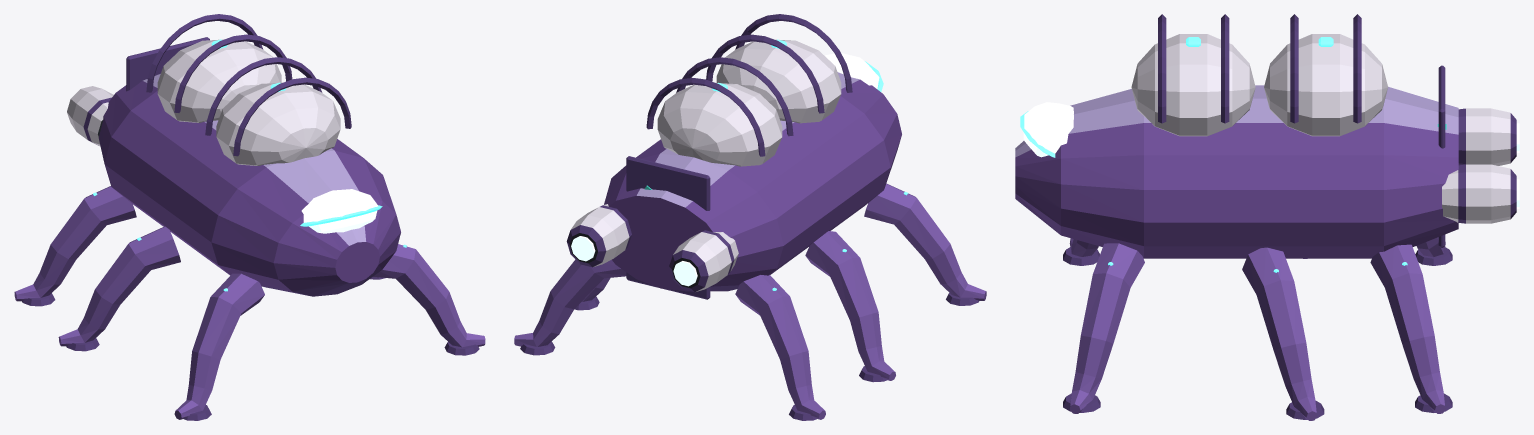
File: aby-f_gelandet.glb
The picture shows the model from 3 angles, left to right: view 1: azimuth 30°, elevation 25°; view 2: azimuth 150°, elevation 25°; view 3: azimuth 270°, elevation 25°; orthographic projection. The views are drawn at different scales.
Visible parts, largest first — view 1: unterrumpf, frachtmodul_1, frachtmodul_2, landebein_2, landebein_4, landebein_6, landebein_1, cockpit, sicherung_1, sicherung_2, triebwerk_r, rampe; view 2: unterrumpf, frachtmodul_2, frachtmodul_1, landebein_4, landebein_6, landebein_2, landebein_5, triebwerk_r, rampe, triebwerk_l, sicherung_2, sicherung_1 (+1 smaller); view 3: unterrumpf, frachtmodul_2, frachtmodul_1, landebein_3, landebein_1, landebein_5, triebwerk_l, triebwerk_r, cockpit, sicherung_1, sicherung_2, landebein_2 (+2 smaller).
Part boxes in pixels (x1,y1,x2,y2): unterrumpf: (98, 74, 400, 296); frachtmodul_1: (216, 82, 340, 165); frachtmodul_2: (157, 39, 281, 122); landebein_2: (174, 273, 264, 420); landebein_4: (58, 226, 180, 351); landebein_6: (14, 186, 136, 306); landebein_1: (373, 244, 485, 355); cockpit: (300, 189, 382, 233); sicherung_1: (205, 57, 351, 156); sicherung_2: (146, 14, 292, 112); triebwerk_r: (67, 86, 113, 146); rampe: (126, 37, 209, 91); unterrumpf: (604, 72, 901, 291); frachtmodul_2: (657, 83, 782, 166); frachtmodul_1: (716, 39, 841, 123); landebein_4: (805, 231, 895, 382); landebein_6: (735, 275, 825, 420); landebein_2: (864, 183, 986, 305); landebein_5: (514, 259, 626, 355); triebwerk_r: (669, 230, 738, 292); rampe: (626, 156, 710, 299); triebwerk_l: (566, 204, 631, 267); sicherung_2: (646, 57, 793, 156); sicherung_1: (706, 14, 852, 113); unterrumpf: (1015, 85, 1458, 258); frachtmodul_2: (1264, 34, 1388, 136); frachtmodul_1: (1131, 34, 1255, 136); landebein_3: (1242, 247, 1324, 420); landebein_1: (1063, 243, 1144, 413); landebein_5: (1370, 244, 1452, 413); triebwerk_l: (1442, 164, 1519, 223); triebwerk_r: (1458, 108, 1519, 165); cockpit: (1020, 102, 1073, 157); sicherung_1: (1158, 14, 1229, 123); sicherung_2: (1290, 14, 1361, 123); landebein_2: (1063, 238, 1099, 265).
Size of the model in its own units: 0.1309 by 0.1036 by 0.1521.
